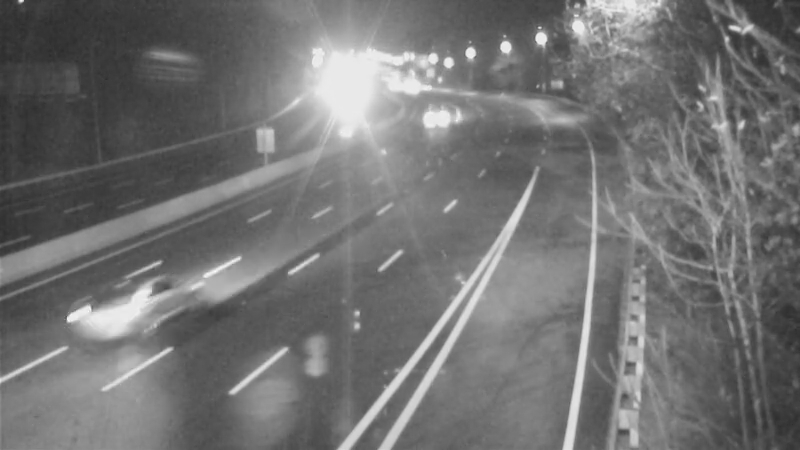vehicle: (51, 257, 161, 367), (396, 62, 446, 112), (405, 94, 455, 144), (321, 80, 371, 130)
